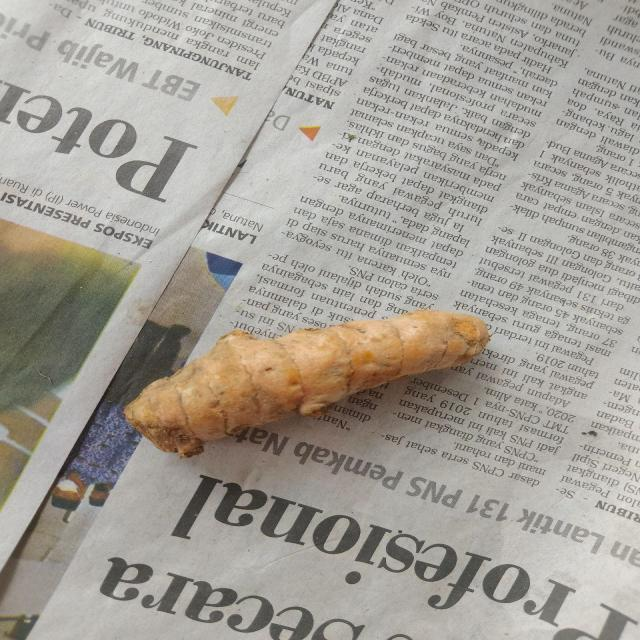ginger: (130, 304, 492, 433)
